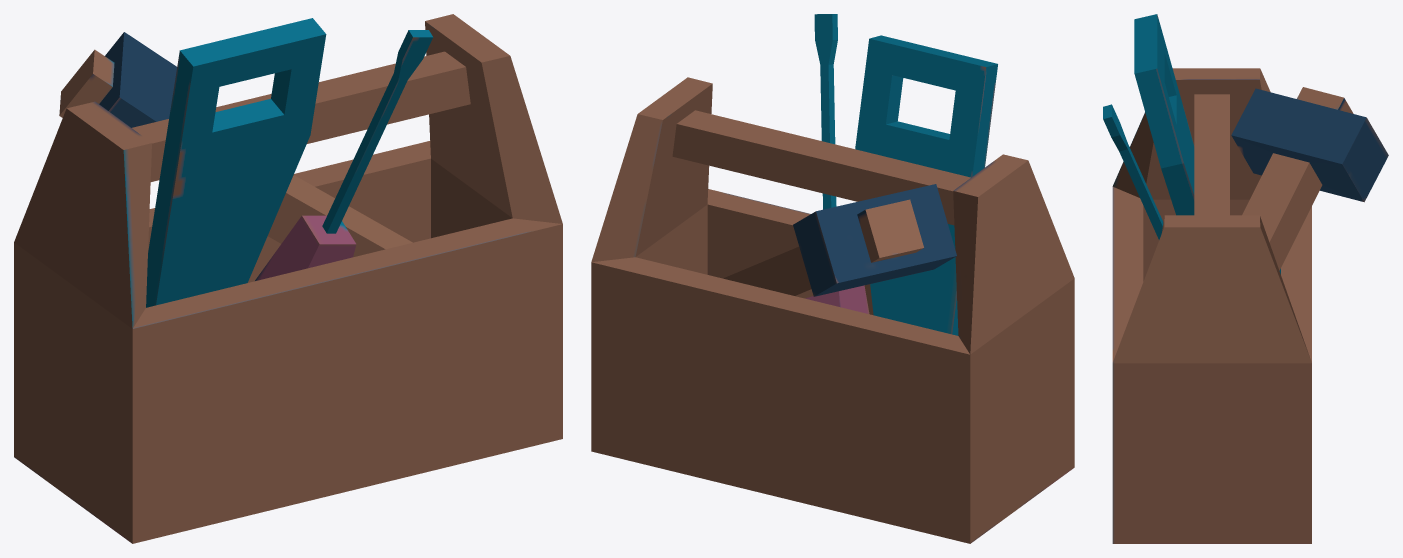
File: Tools.fbx
3 renders of one model, left to right at view 1: azimuth 30°, elevation 25°; view 2: azimuth 150°, elevation 25°; view 3: azimuth 270°, elevation 25°, orthographic. The views are drawn at different scales.
Parts seen in each view (by area): view 1: Tools; view 2: Tools; view 3: Tools.
Boxes of the visible parts, x1,y1,x2,y2 form: Tools: (14, 14, 562, 543); Tools: (591, 14, 1074, 543); Tools: (1103, 14, 1388, 543).
Bounding box in the file's own units: 20.96 × 21.22 × 14.33.
